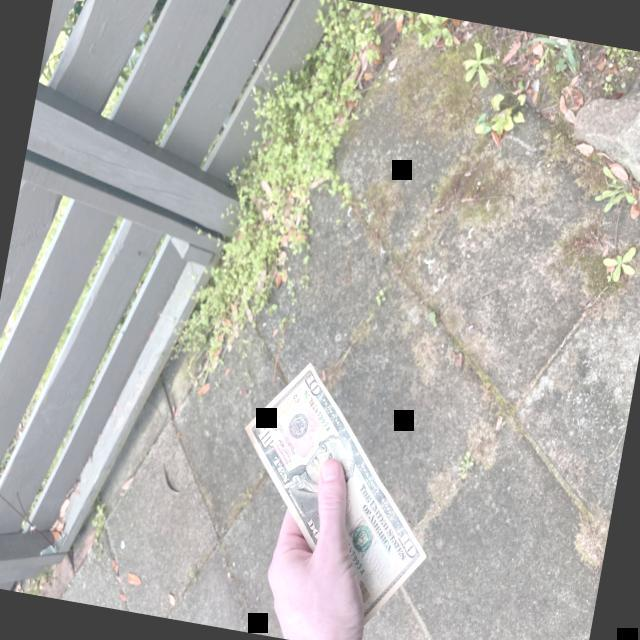ten: (242, 360, 427, 631)
